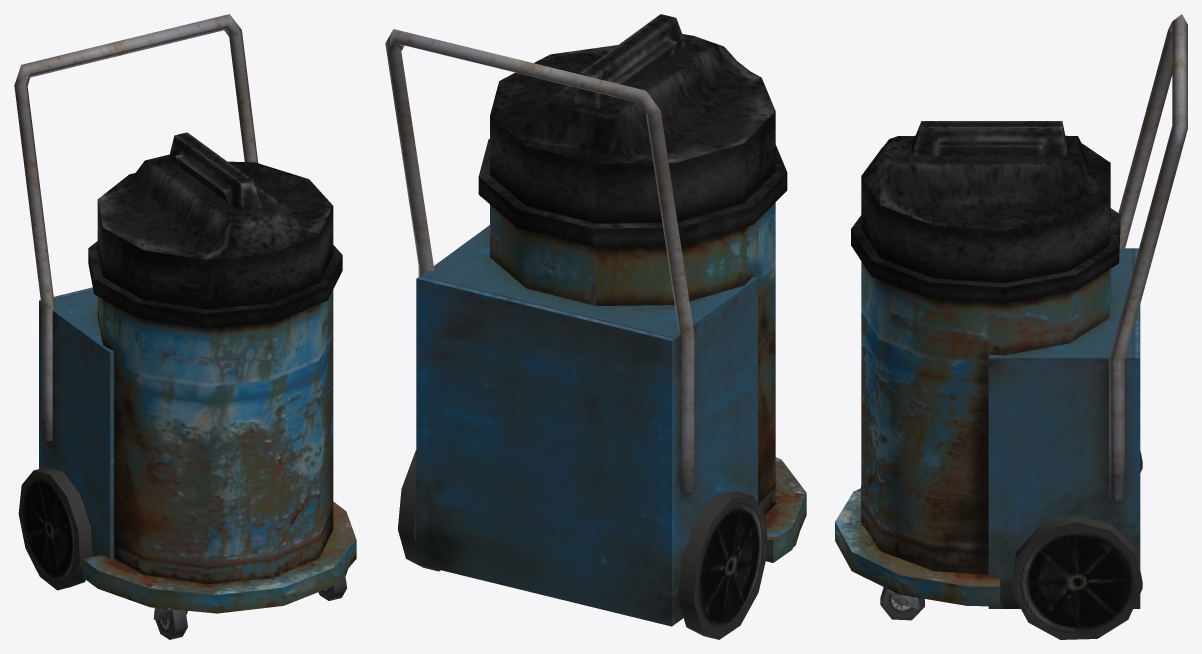
Rendered from cleaning_vacuum_cleaner.dae.
3 renders of one model, left to right at view 1: azimuth 30°, elevation 25°; view 2: azimuth 150°, elevation 25°; view 3: azimuth 270°, elevation 25°, orthographic. The views are drawn at different scales.
Parts seen in each view (by area): view 1: vacuum; view 2: vacuum; view 3: vacuum.
Boxes of the visible parts, x1=… form: vacuum: x1=14, y1=14, x2=356, y2=639; vacuum: x1=385, y1=14, x2=806, y2=639; vacuum: x1=835, y1=14, x2=1187, y2=639.
Size of what is drawn, in the model's own units: 0.3868 by 0.7161 by 0.4484.
